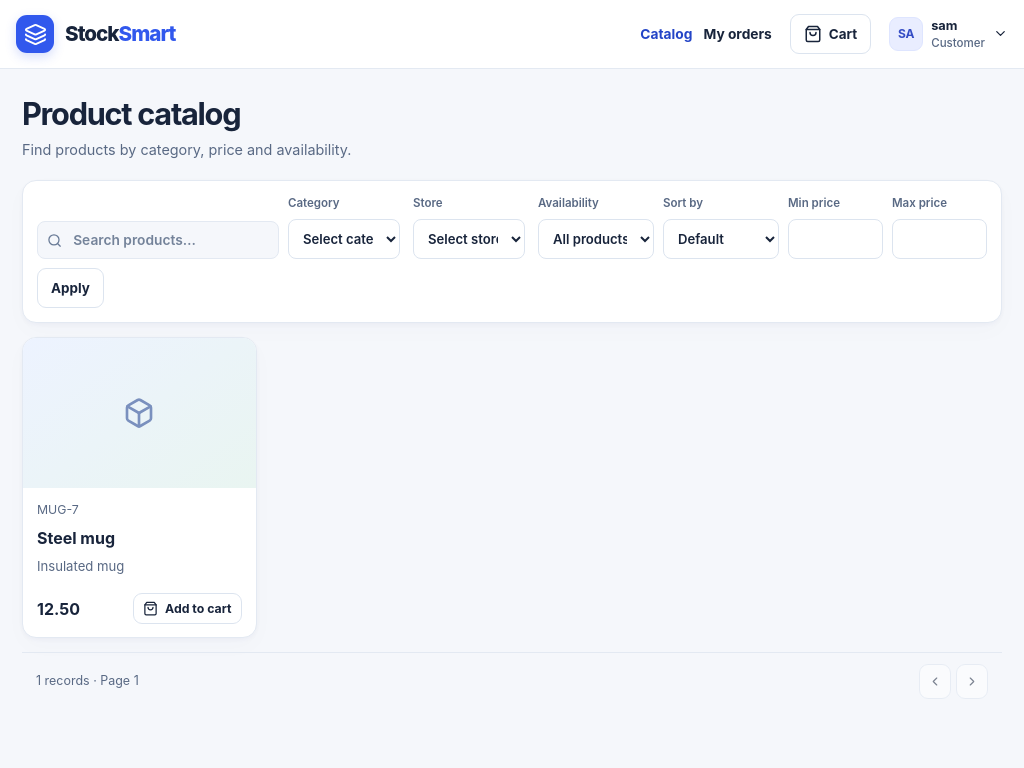
it: adds a catalog item to the cart and places an idempotent order for a selected store
Click the button "Add to cart" at [187, 609], box top-left (133, 593), bottom-right (242, 624)
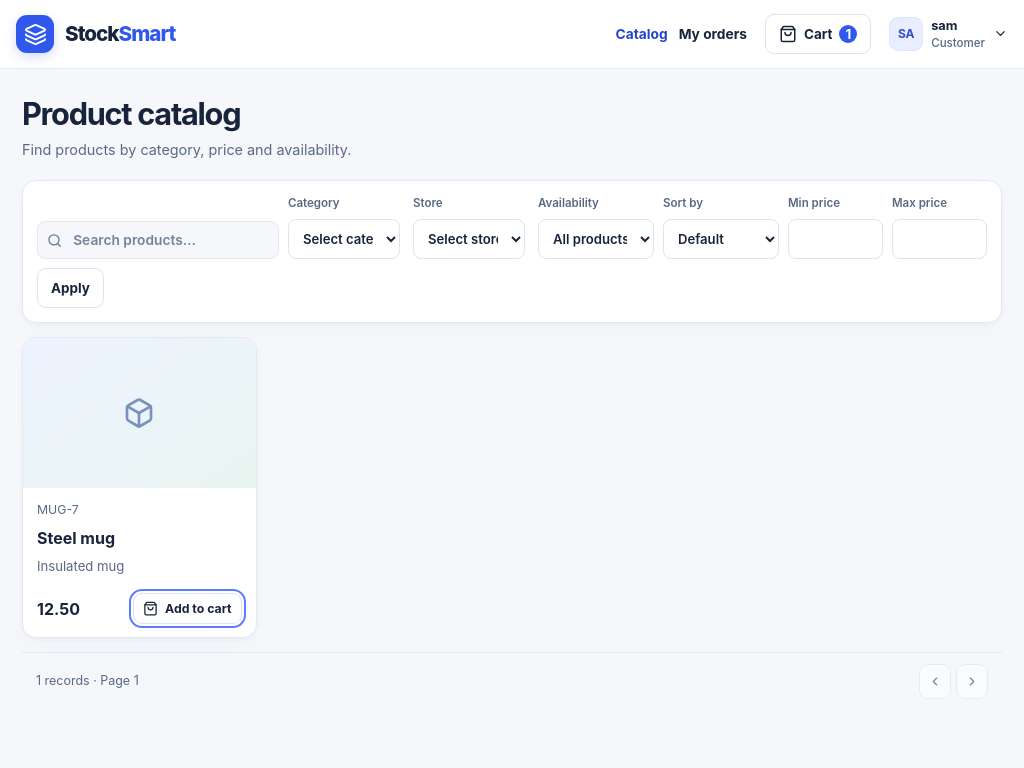
Click the link "Cart 1" at [818, 34], box top-left (765, 14), bottom-right (871, 54)
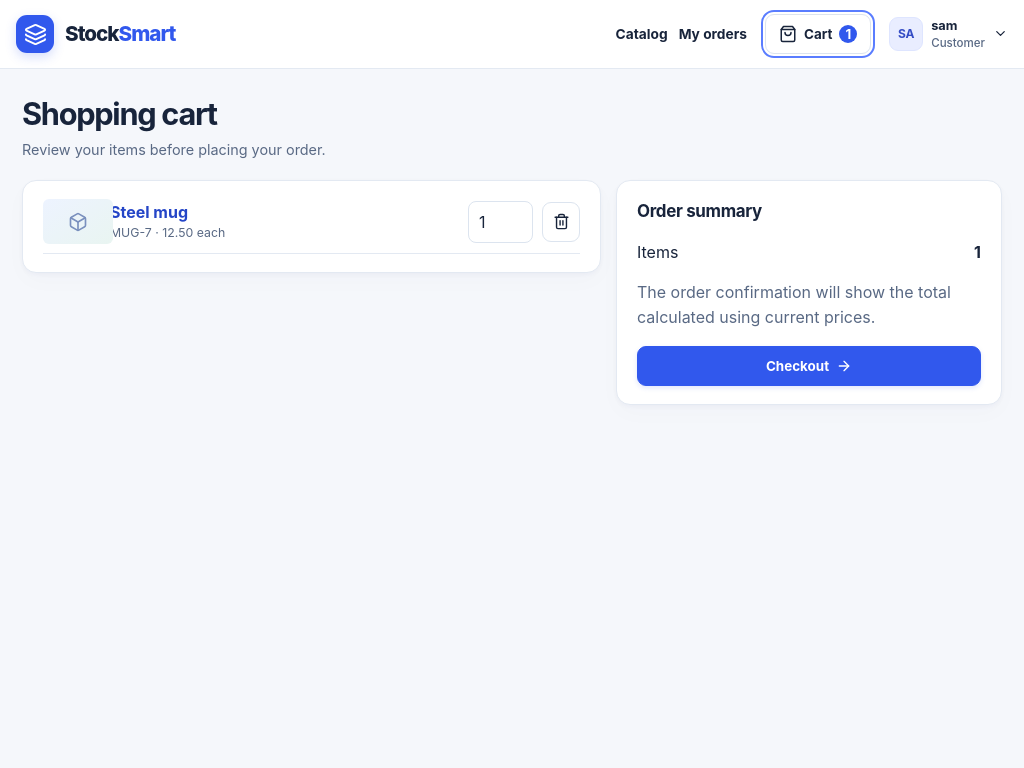
Click the link "Checkout" at [809, 366], box top-left (637, 346), bottom-right (981, 386)
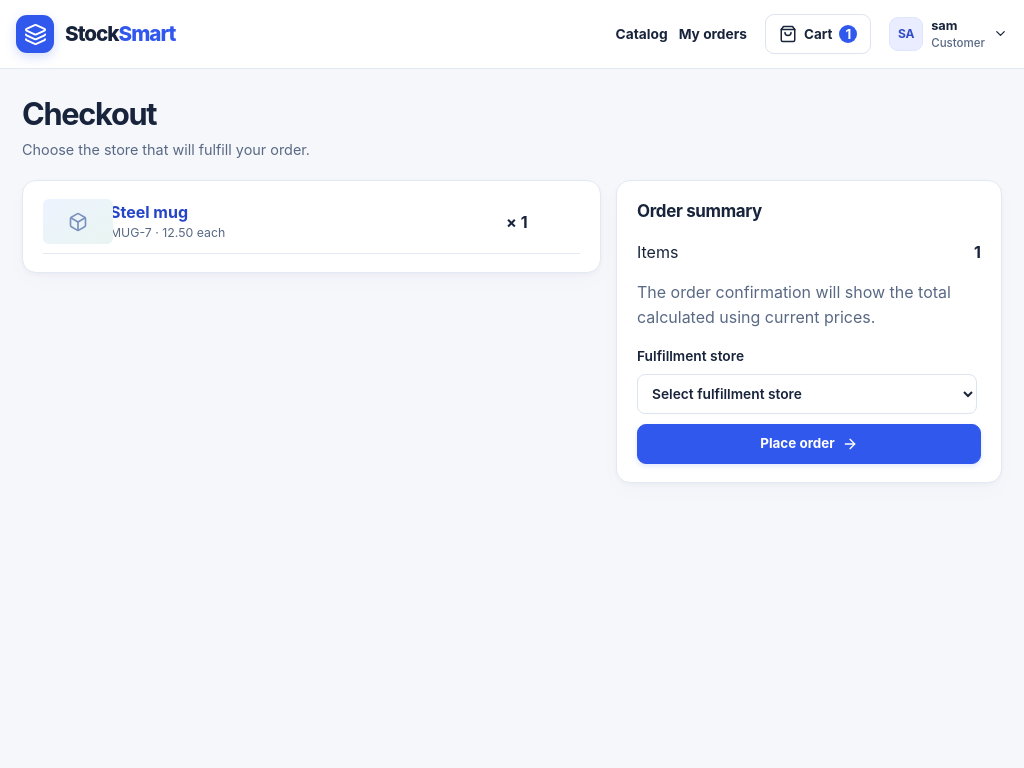
Select "Central Store" in the dropdown labelled "Fulfillment store" at [807, 394], box top-left (637, 374), bottom-right (977, 414)
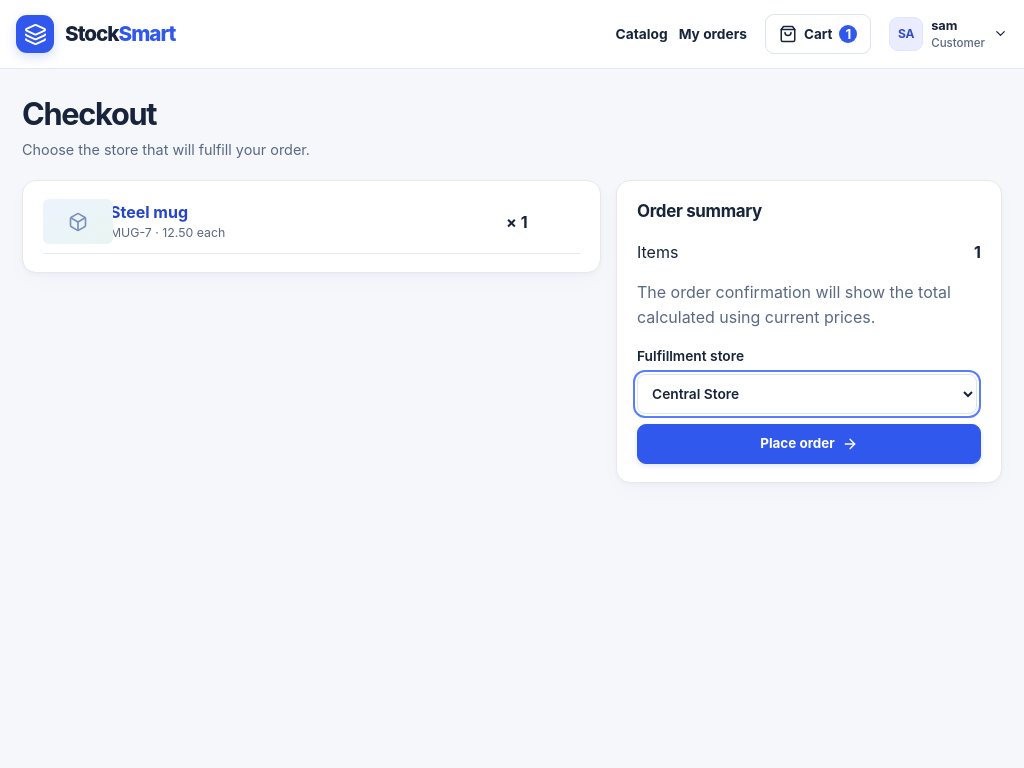
Click the button "Place order" at [809, 444], box top-left (637, 424), bottom-right (981, 464)
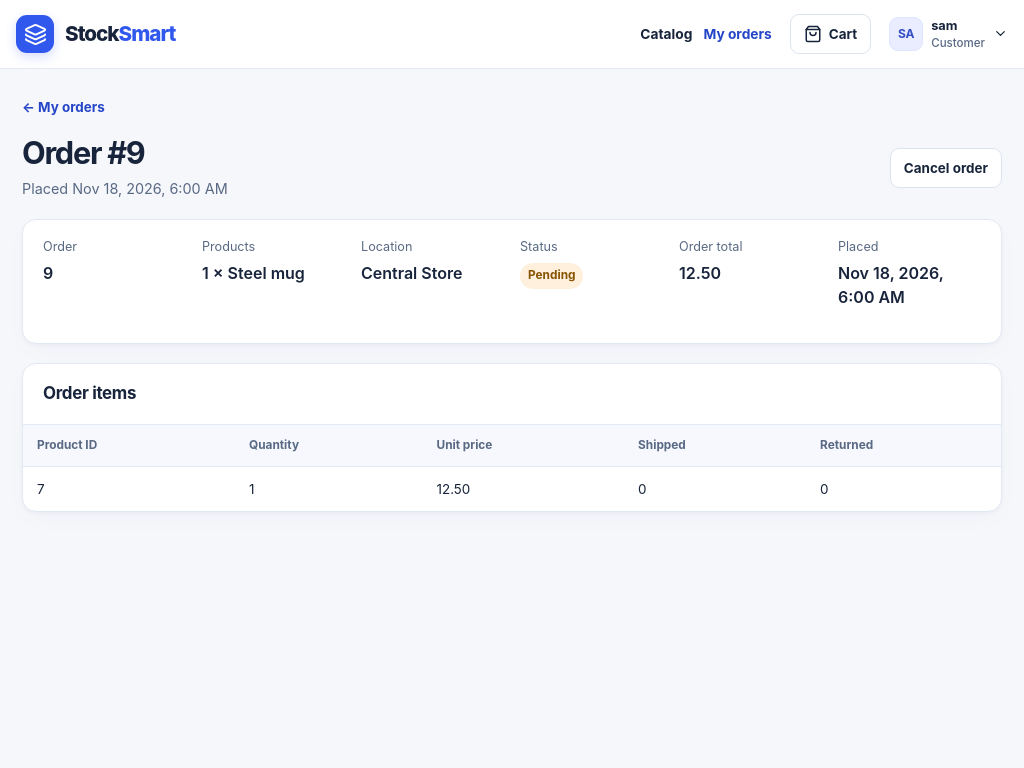
Expected: the heading "Order #9" is shown, top-left (22, 134), bottom-right (144, 171)
